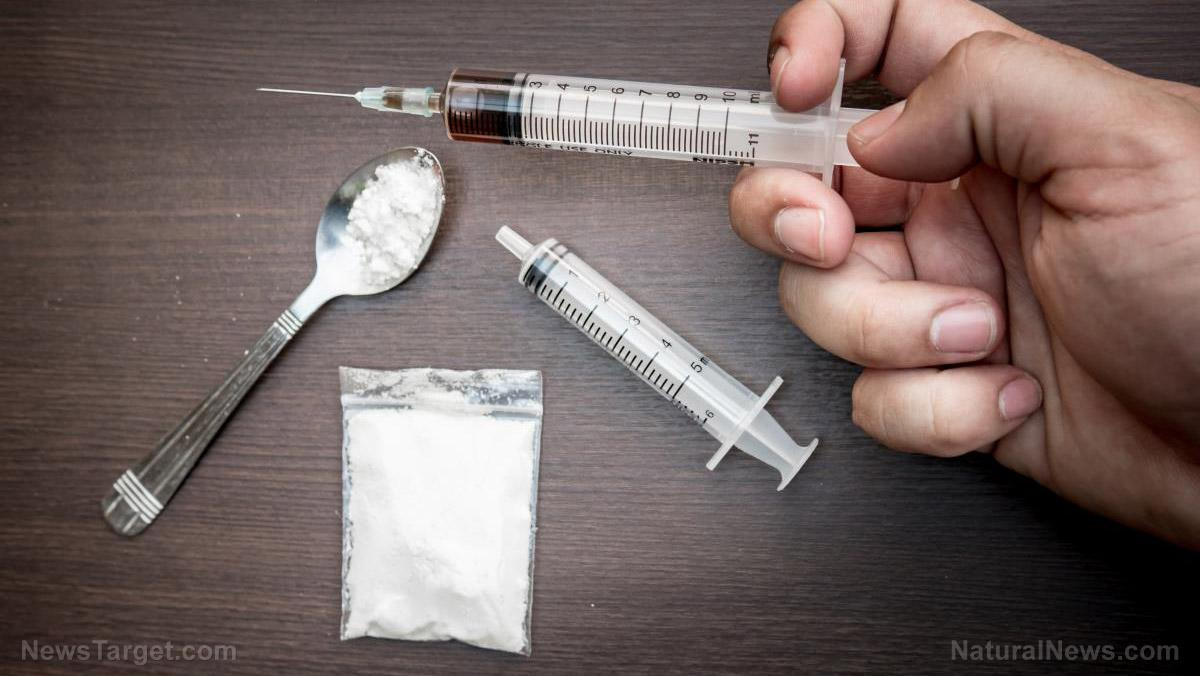Syringe: (496, 227, 817, 489), (262, 64, 874, 183)
